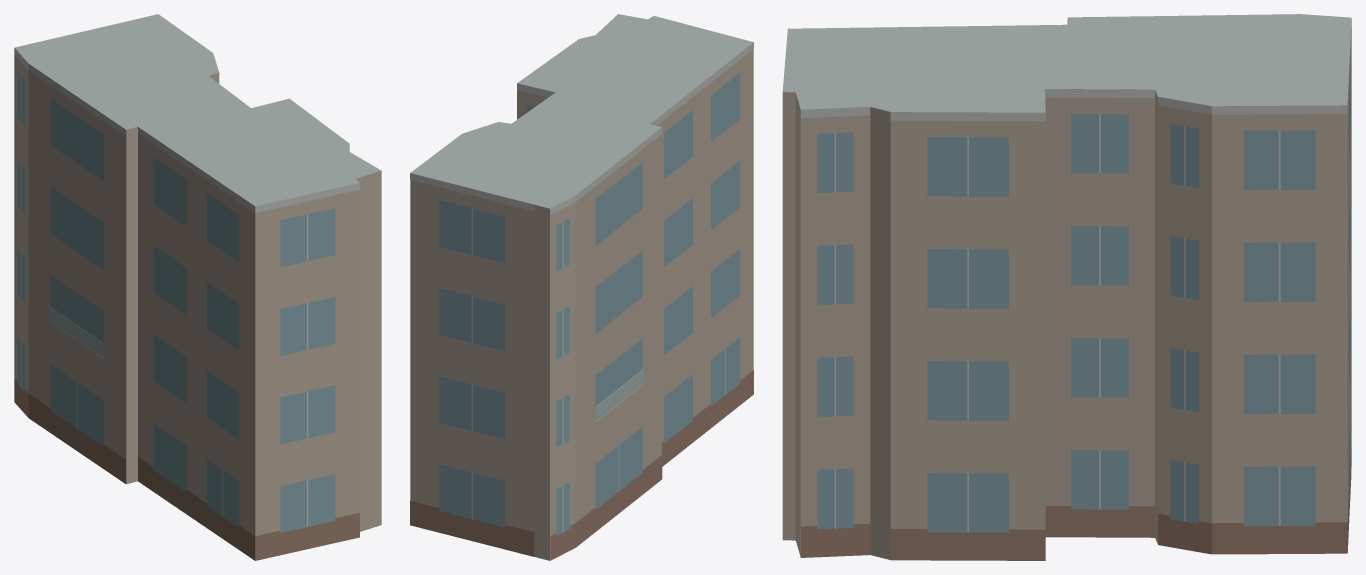
File: survey-upis-32901763.glb
The picture shows the model from 3 angles, left to right: view 1: azimuth 30°, elevation 25°; view 2: azimuth 150°, elevation 25°; view 3: azimuth 270°, elevation 25°; orthographic projection. The views are drawn at different scales.
Visible parts, largest first — view 1: survey-upis-32901763.tmp; view 2: survey-upis-32901763.tmp; view 3: survey-upis-32901763.tmp.
Part boxes in pixels (x1,y1,x2,y2): survey-upis-32901763.tmp: (14, 14, 381, 560); survey-upis-32901763.tmp: (410, 14, 753, 560); survey-upis-32901763.tmp: (782, 14, 1351, 560).
Size of the model in its own units: 6.05 by 12.8 by 14.73.
